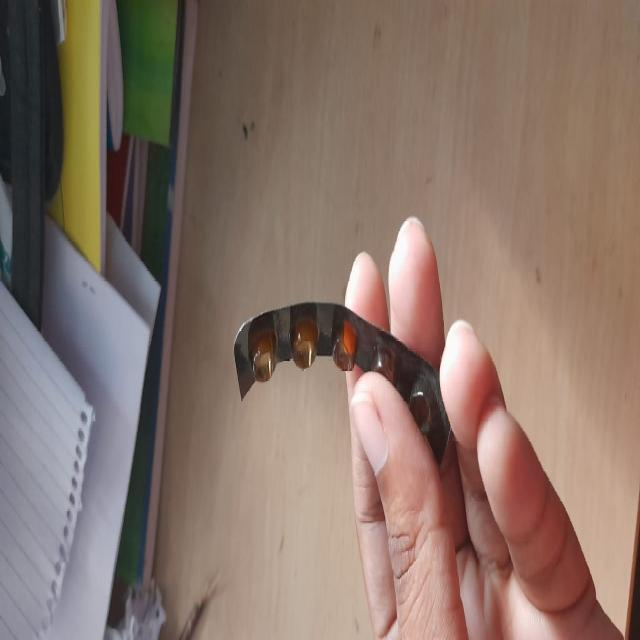Blister_Packs - Non Recyclable: (225, 285, 471, 493)
